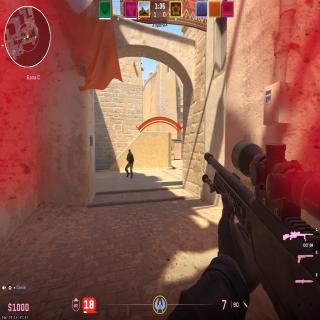T-Body: (126, 150, 133, 178)
T-Head: (128, 150, 131, 154)
